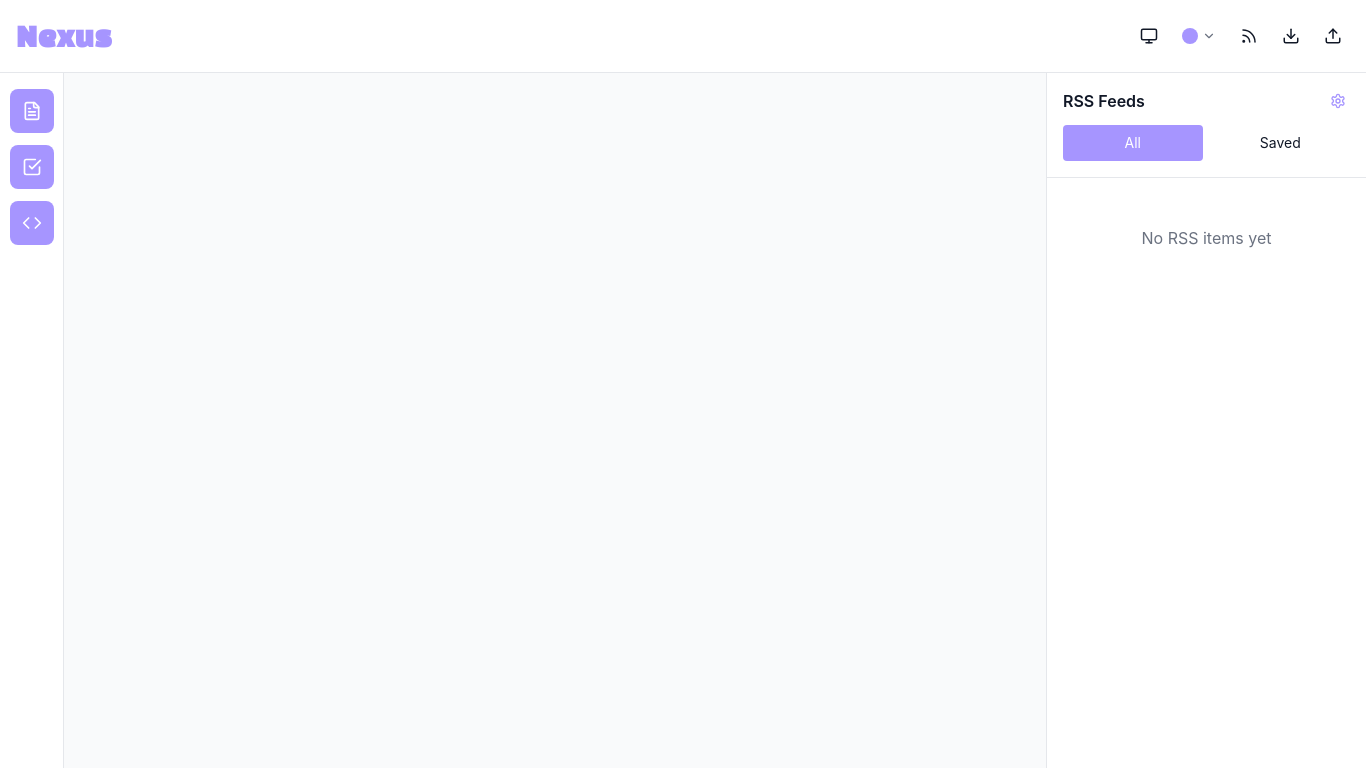
Test: App › should open note modal from sidebar
The width and height of the screenshot is (1366, 768).
Expected: the heading "Nexus" is shown, [16,12,112,60]
Click the button titled "New Note" at (32, 111), box [10,89,54,133]
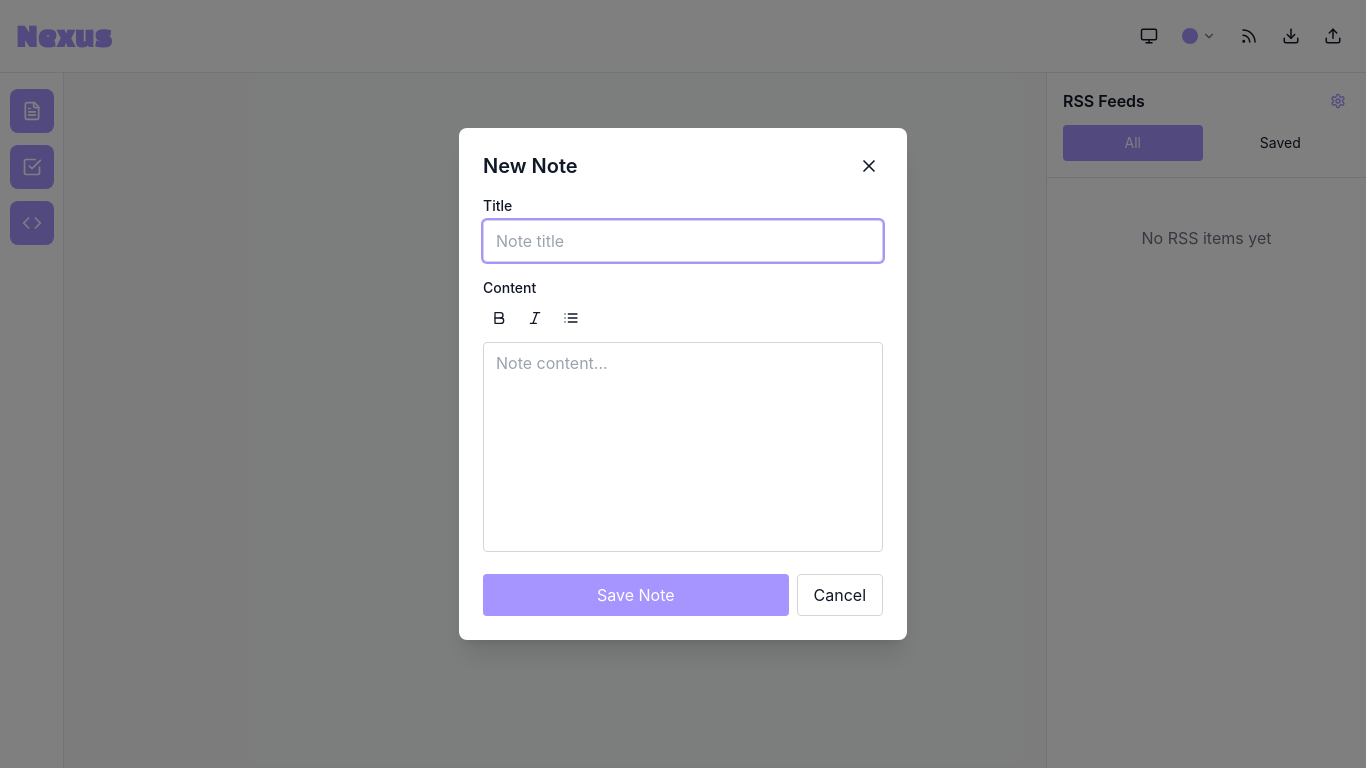
Expected: the heading "New Note" is shown, [483,152,578,180]
